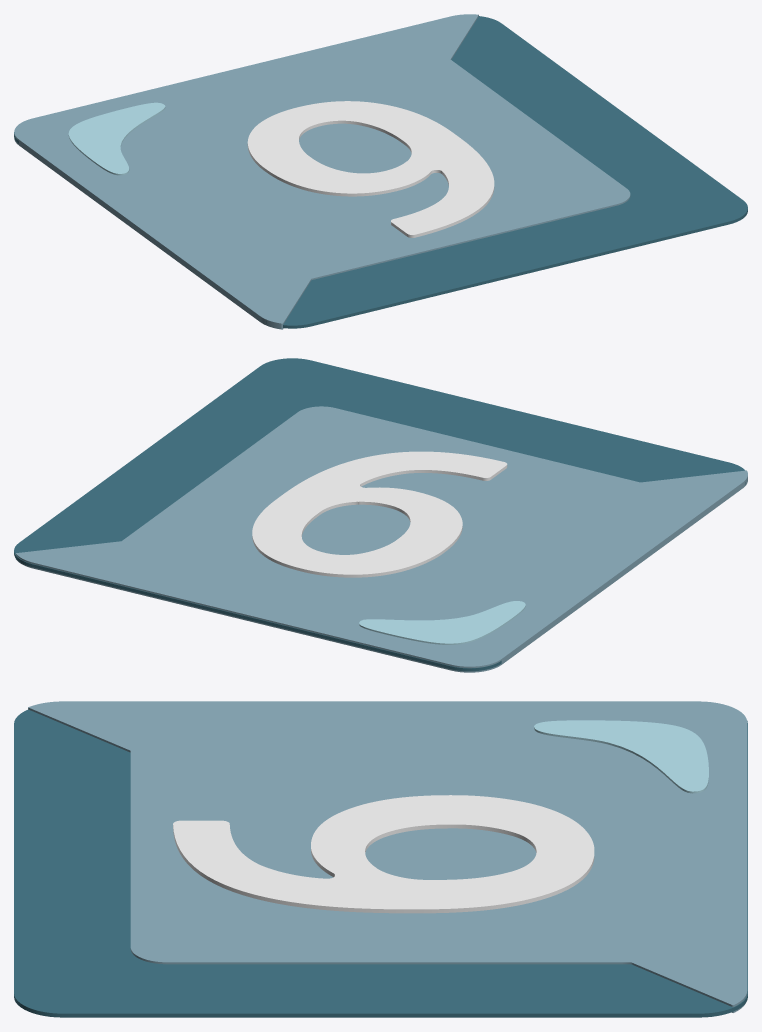
File: emoji_u0039_20e3.glb
3 renders of one model, top to bottom at view 1: azimuth 30°, elevation 25°; view 2: azimuth 150°, elevation 25°; view 3: azimuth 270°, elevation 25°, orthographic. The views are drawn at different scales.
Parts seen in each view (by area): view 1: emoji_u0039_20e3; view 2: emoji_u0039_20e3; view 3: emoji_u0039_20e3.
Boxes of the visible parts, bbox=[...] form: emoji_u0039_20e3: bbox=[14, 14, 747, 329]; emoji_u0039_20e3: bbox=[14, 358, 747, 672]; emoji_u0039_20e3: bbox=[14, 701, 747, 1017].
Size of the model in its own units: 0.0339 by 0.0008 by 0.0339.
